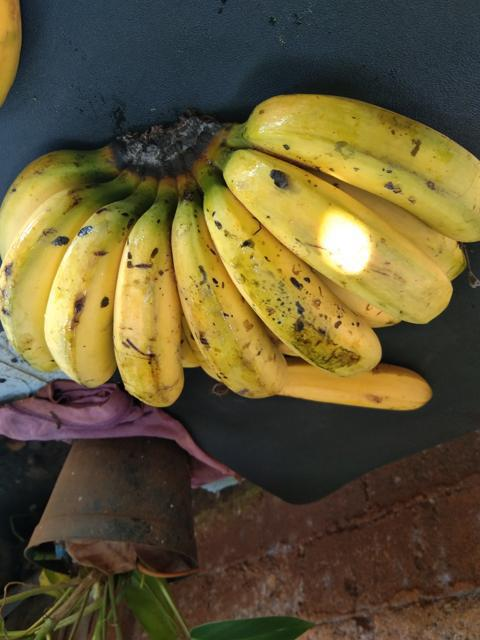freshripe: (284, 361, 444, 434)
ripe: (207, 152, 465, 334), (253, 77, 479, 241), (159, 190, 296, 394), (208, 210, 385, 365), (45, 189, 124, 399), (112, 206, 188, 417)
